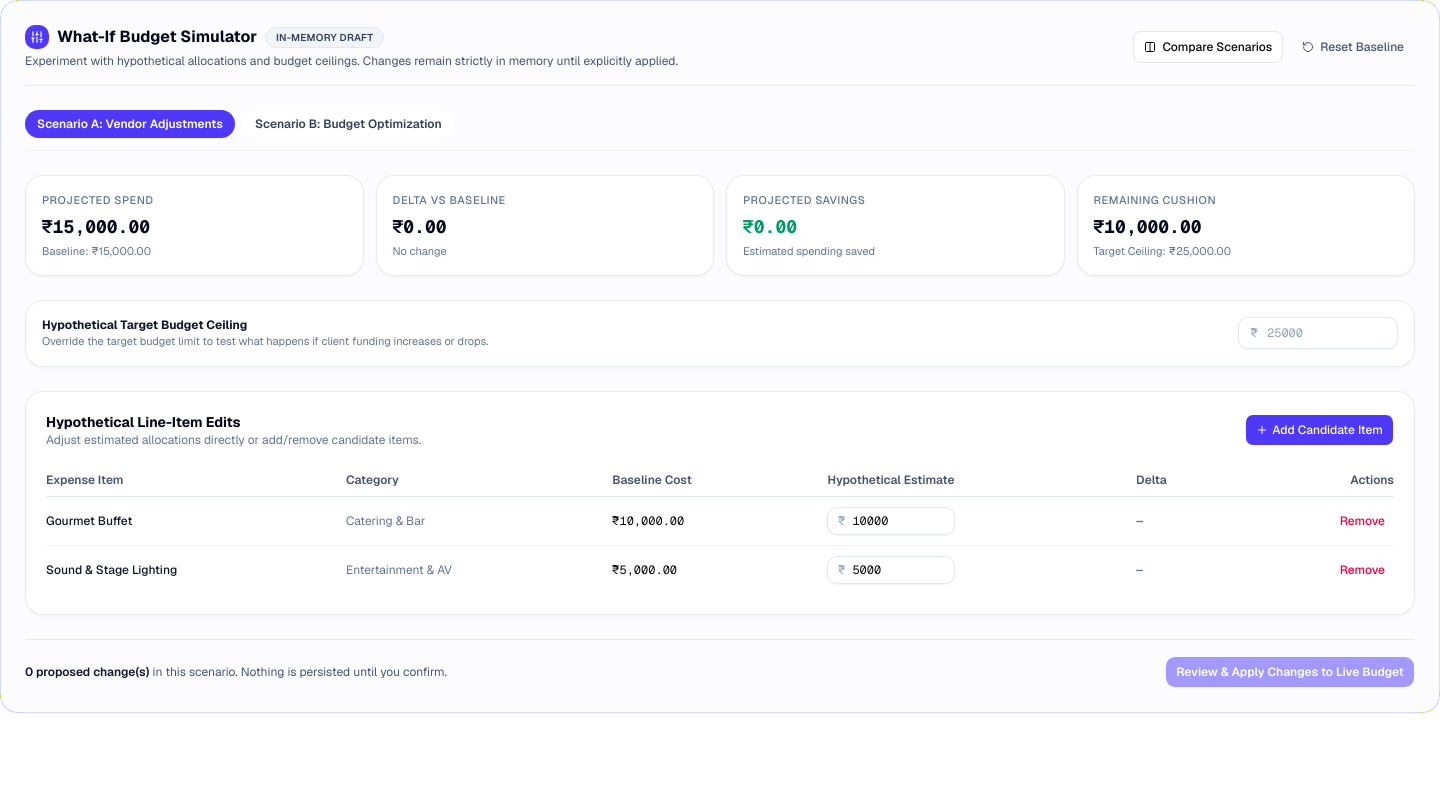
WhatIfSimulator Component › Interactive Line-Item Adjustments › adjusts line item estimate, recalculates totals, and displays 'Edited' badge
Step 1. Clear the number field named "Adjust estimated amount for Gourmet Buffet" → (891, 520), box [827,506,955,534]
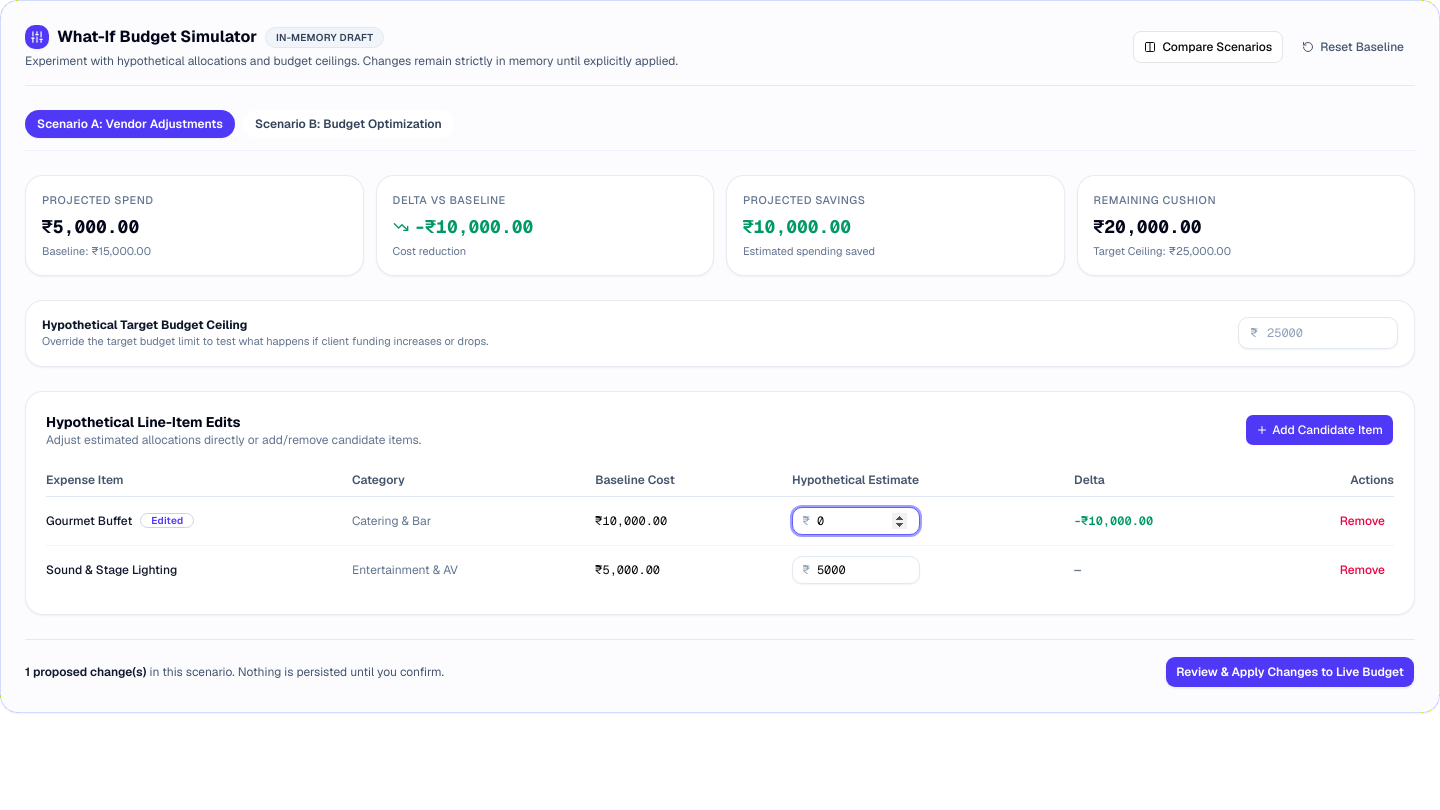
Step 2. Type "12000" into the number field named "Adjust estimated amount for Gourmet Buffet" → (856, 520), box [792,506,920,534]
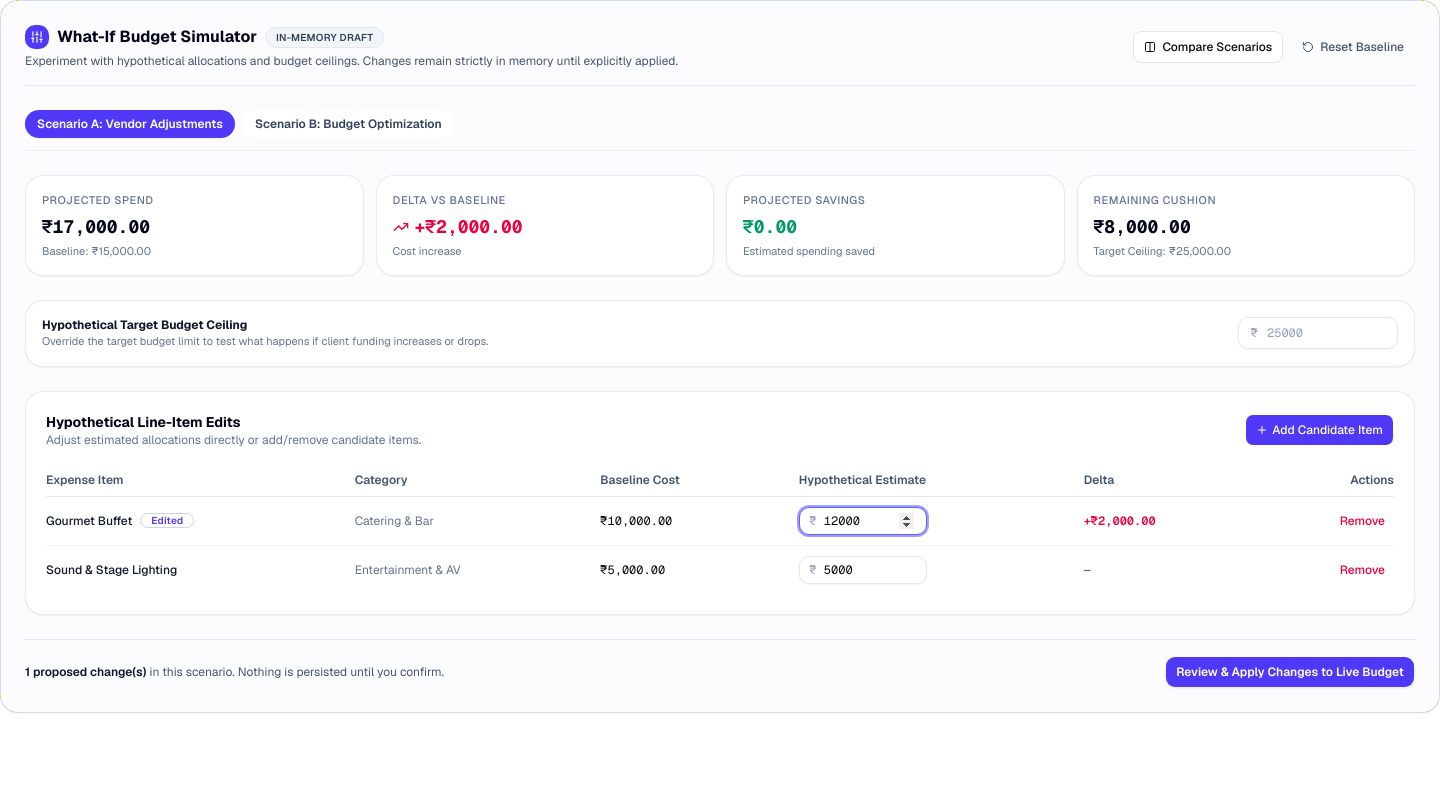
Expected: the text "Edited" is shown, [140,513,194,528]
Expected: the text "₹17,000.00" is shown, [42,214,150,238]
Expected: the text "+₹2,000.00" is shown, [414,212,522,240]
